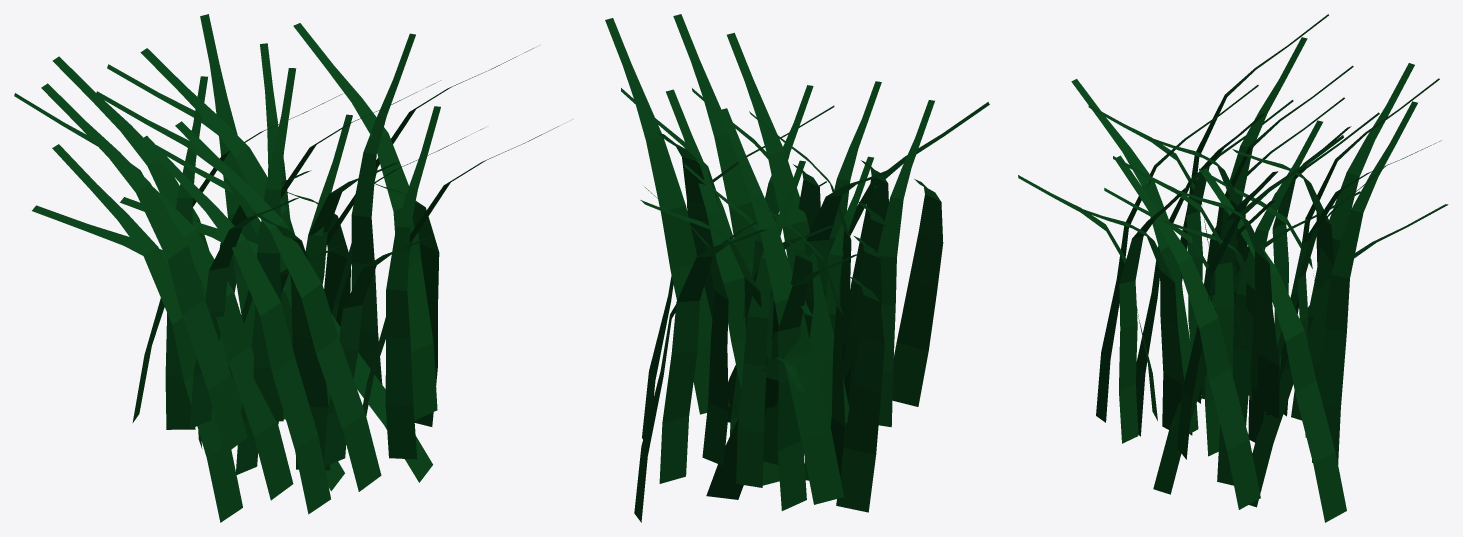
File: grass.fbx
The picture shows the model from 3 angles, left to right: view 1: azimuth 30°, elevation 25°; view 2: azimuth 150°, elevation 25°; view 3: azimuth 270°, elevation 25°; orthographic projection. The views are drawn at different scales.
Visible parts, largest first — view 1: grass; view 2: grass; view 3: grass.
Part boxes in pixels (box(x1,y1,x2,y2)): grass: box(14, 14, 558, 522); grass: box(605, 14, 989, 522); grass: box(1018, 14, 1448, 522).
Bounding box in the file's own units: 100 × 100 × 100.
